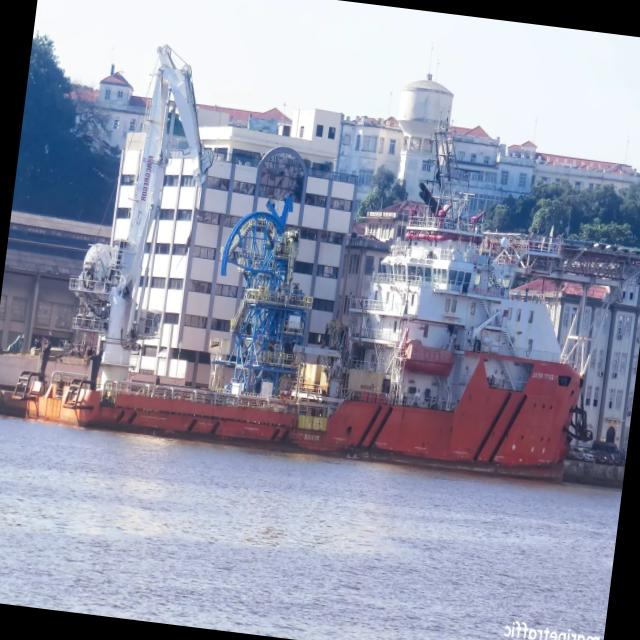Offshore: (12, 210, 588, 479)
